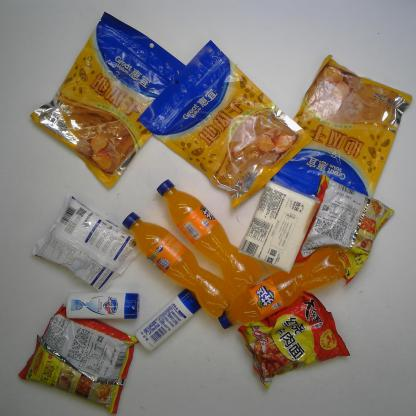Dried Fruit: (136, 38, 313, 211), (30, 10, 187, 190), (271, 54, 413, 201)
Drink: (122, 211, 235, 318), (156, 179, 262, 293), (218, 247, 346, 329)
Instant Noodles: (16, 302, 140, 415), (293, 174, 395, 287), (238, 291, 350, 389)
Personal Hygiene: (134, 288, 202, 352), (66, 292, 140, 319)
Seasoner: (32, 193, 142, 293)
Tissue: (238, 180, 320, 274)
